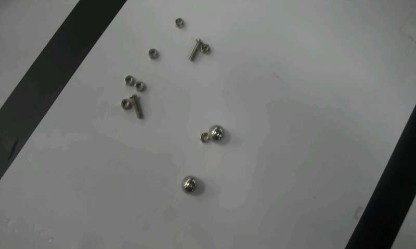ironball: (181, 175, 197, 192), (208, 124, 224, 140)
